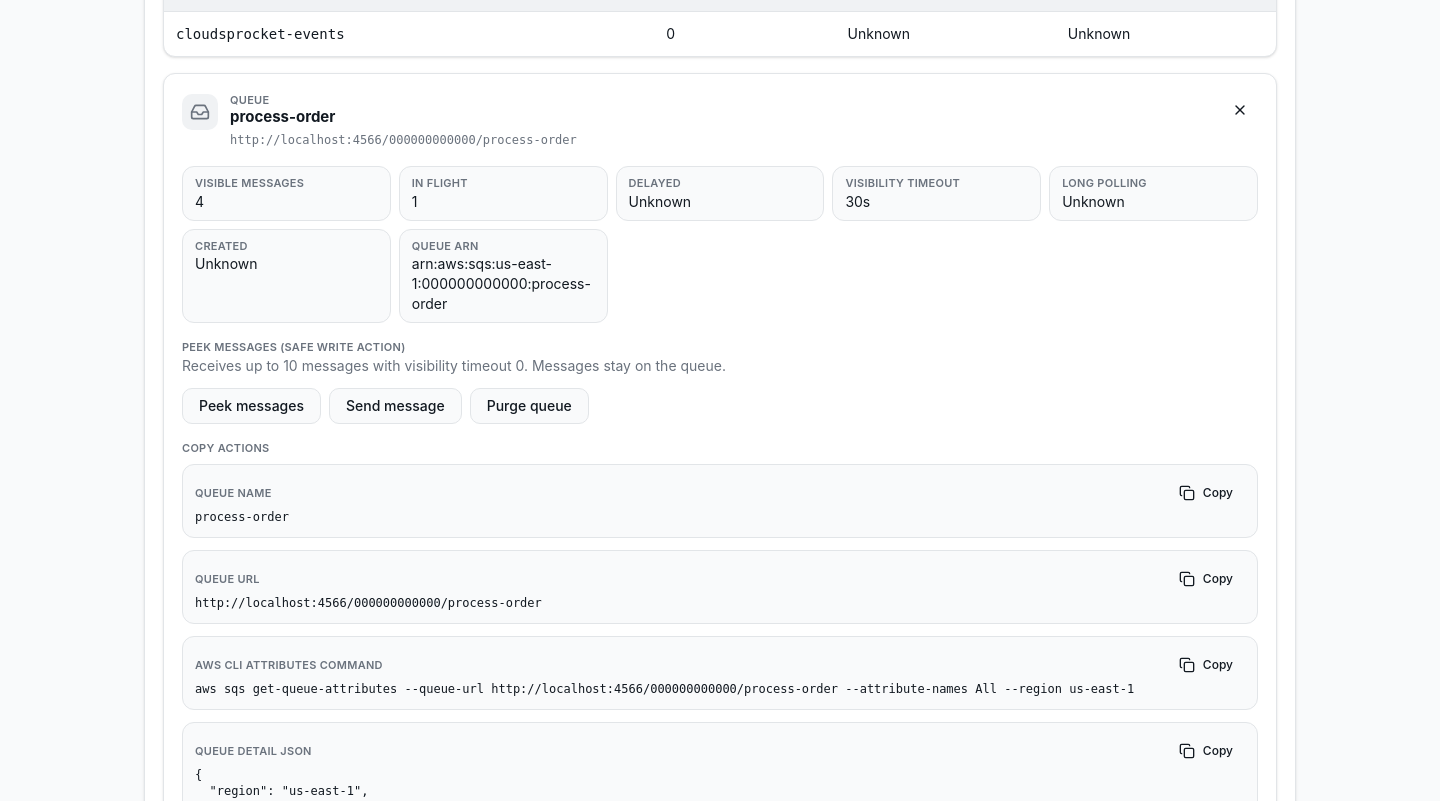
SQSView › sends a message to the selected queue through the send dialog
(page scrolled)
Click the button "Send message": (395, 406) [329,388,462,424]
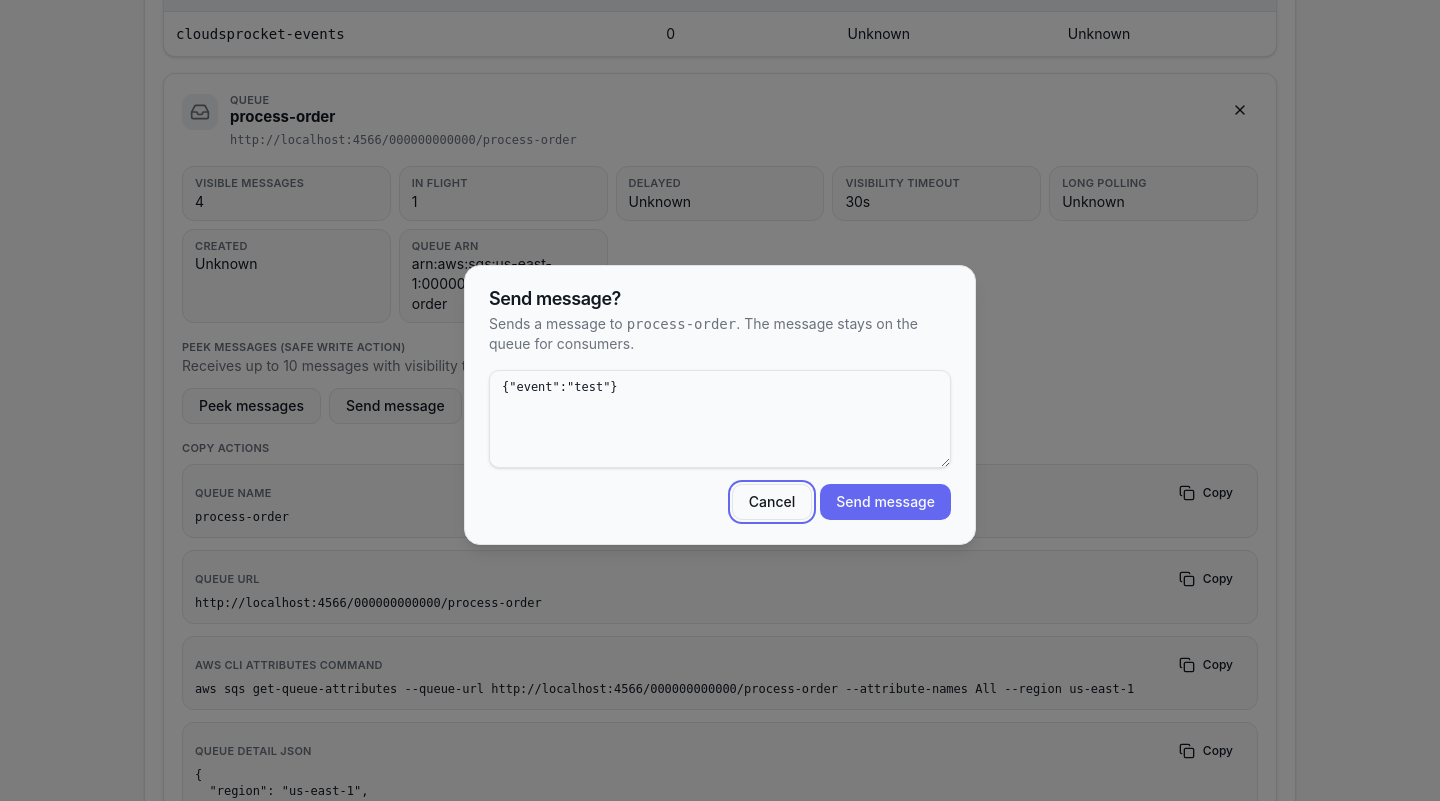
Click the button "Send message": (886, 502) [820,484,951,520]
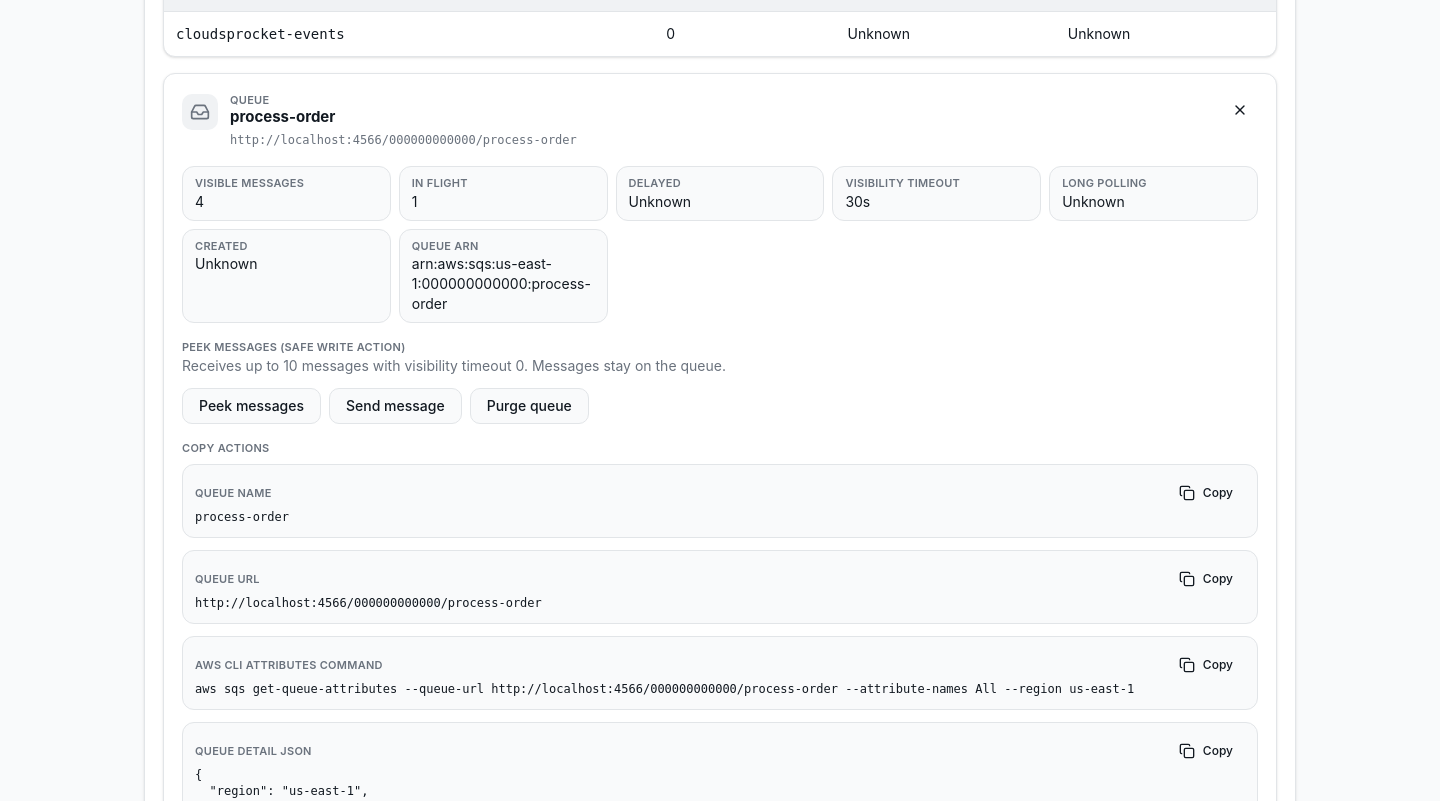
Now the dialog is gone
